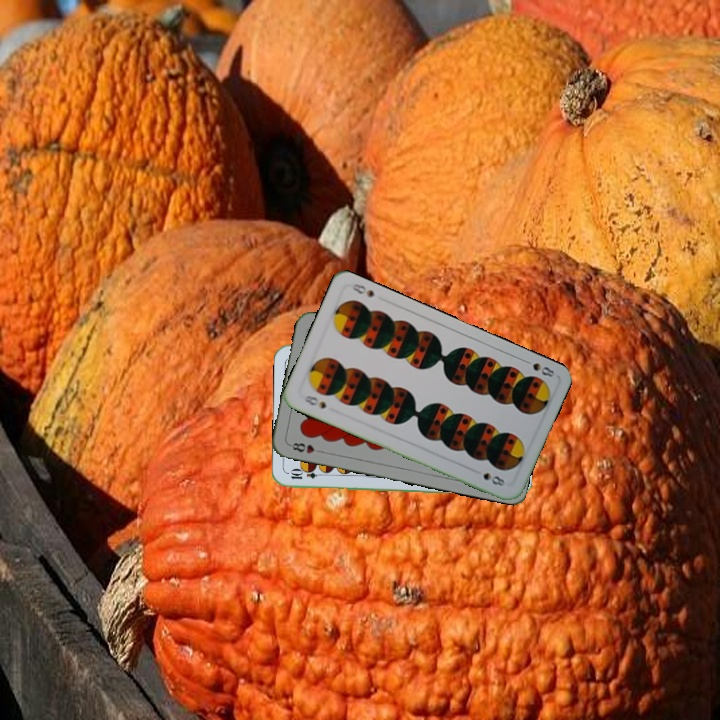E10: (287, 468, 327, 482)
H8: (286, 438, 326, 456)
S8: (519, 355, 558, 380), (300, 391, 329, 412)
